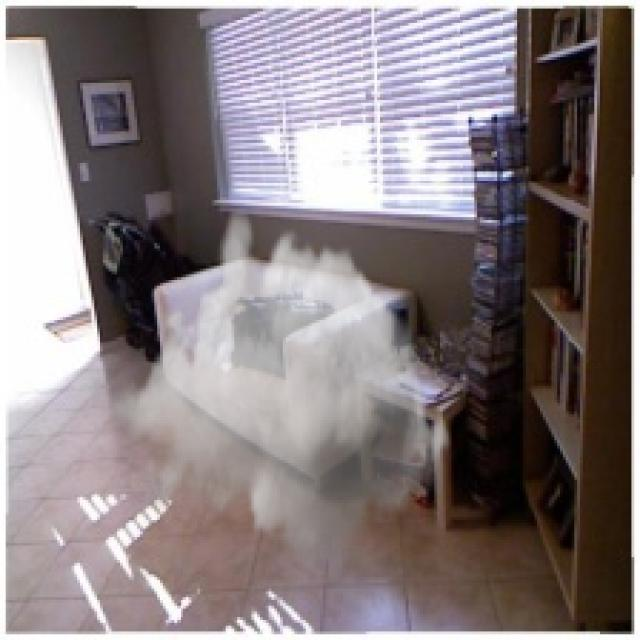Smoke: (108, 202, 454, 578)
